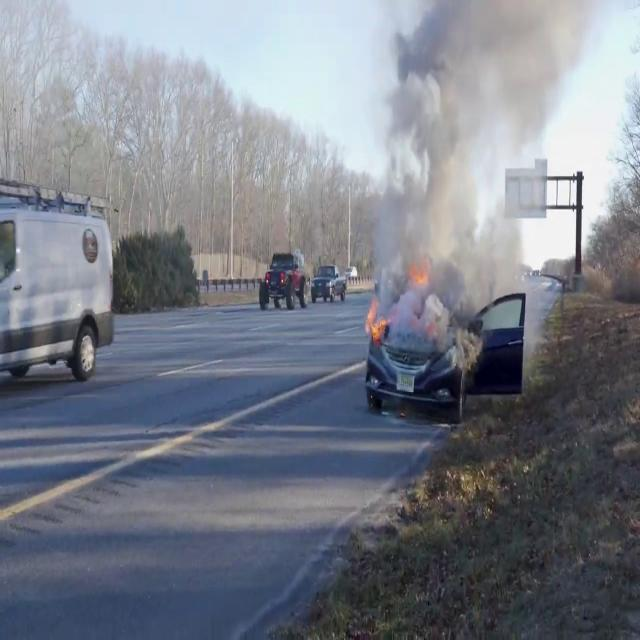Fire: (364, 295, 388, 342)
Smoke: (367, 1, 570, 334)
